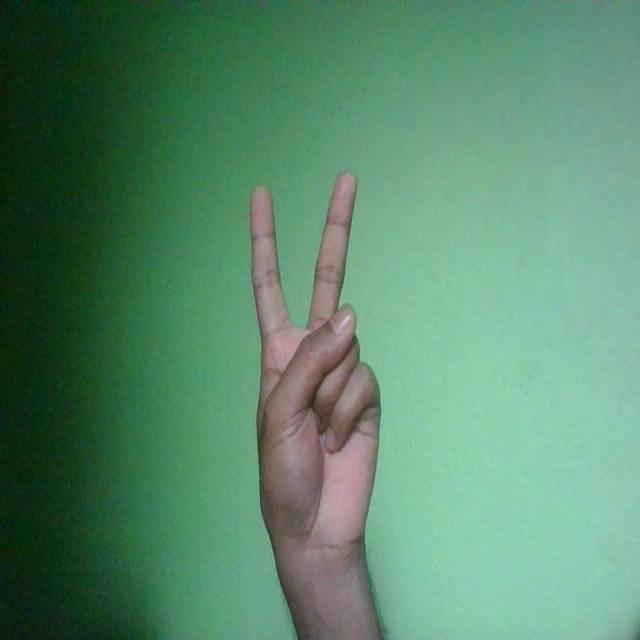Fist: (250, 171, 382, 558)
